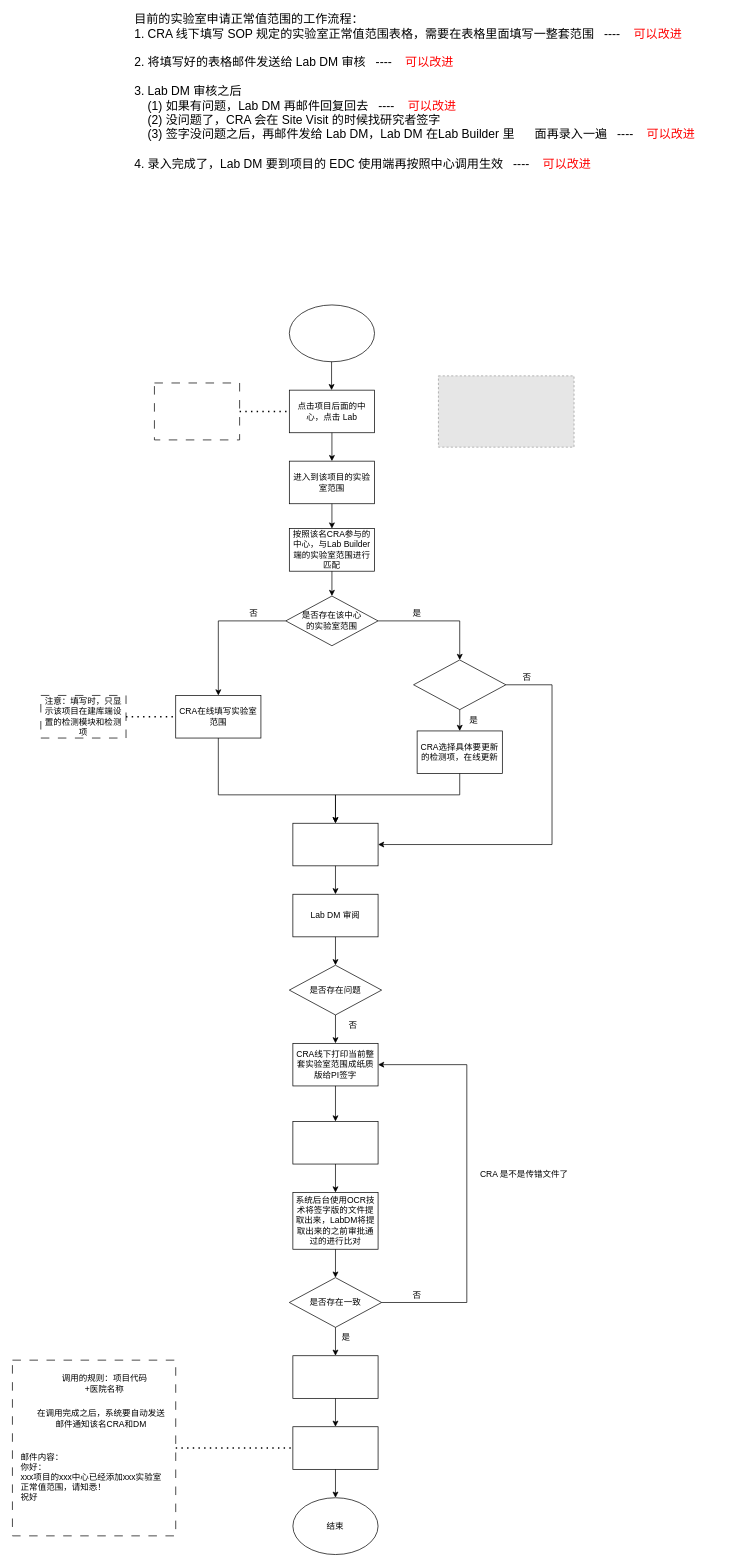
The diagram is 742 pixels wide and 1567 high, and some of its shapes have lost their labels. Grey dashed boxes stand in for pictures. The centre of each missing label's shape, as x and y in pixels:
CRA将签字版的文档作为附件上传至该实验室范围处: [335,1142]
CRC录入数据时，直接引用该套范围: [335,1447]
保存/提交: [335,844]
前提：项目已经推送到PRO环境，并且CRA已经接受了项目邀请且参与项目的具体中心: [197,411]
实验室范围是否 需要更新: [459,684]
开始: [332,333]
系统直接在该项目的EDC使用端增加该套记录: [335,1376]
